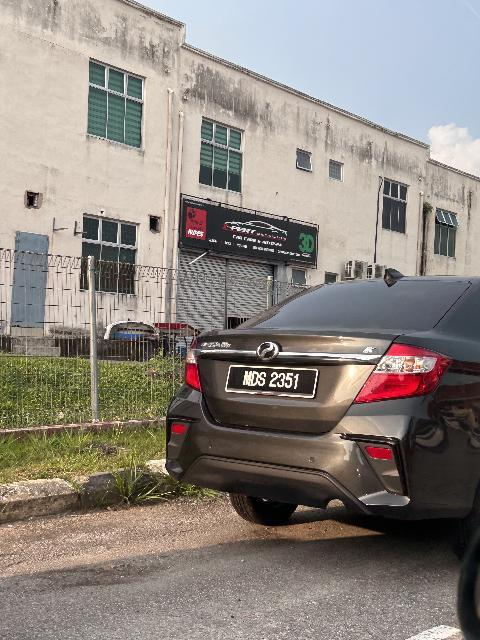License_Plate: (225, 365, 321, 400)
MDS2351: (225, 365, 321, 400)
car: (167, 273, 480, 546)
